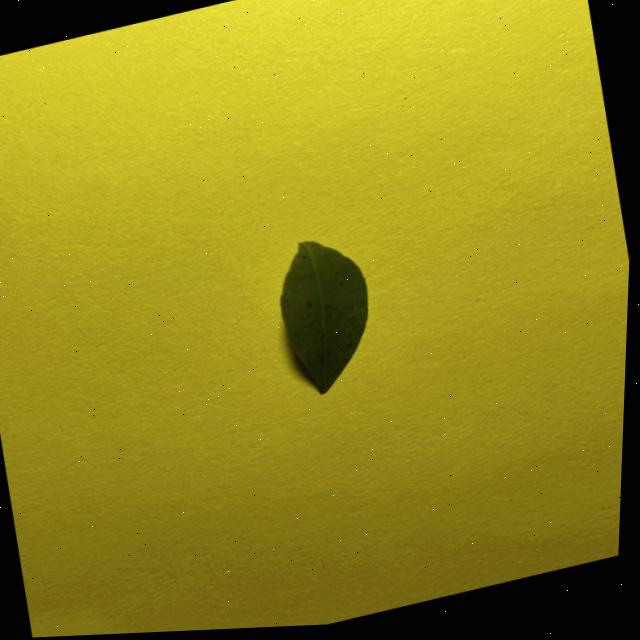greening: (281, 242, 367, 393)
